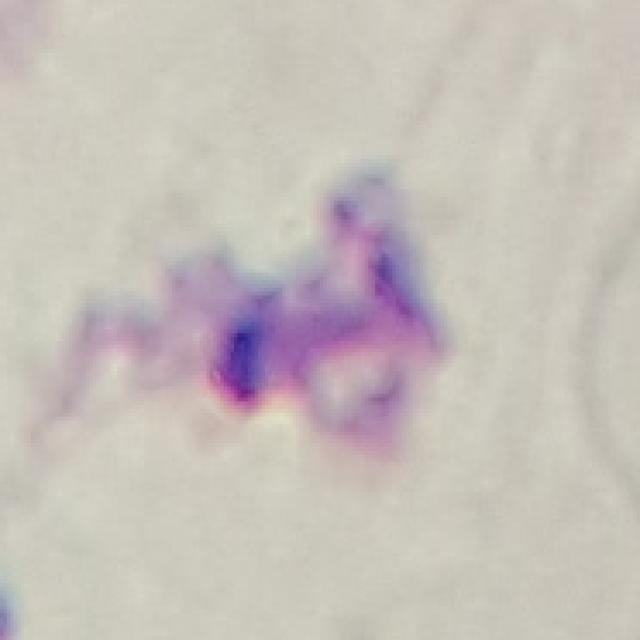non-sperm: (189, 186, 452, 448)
